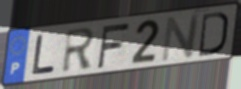2: (129, 18, 162, 68)
D: (198, 10, 230, 58)
F: (96, 21, 132, 70)
L: (31, 33, 58, 77)
N: (160, 12, 202, 64)
R: (60, 26, 97, 75)
